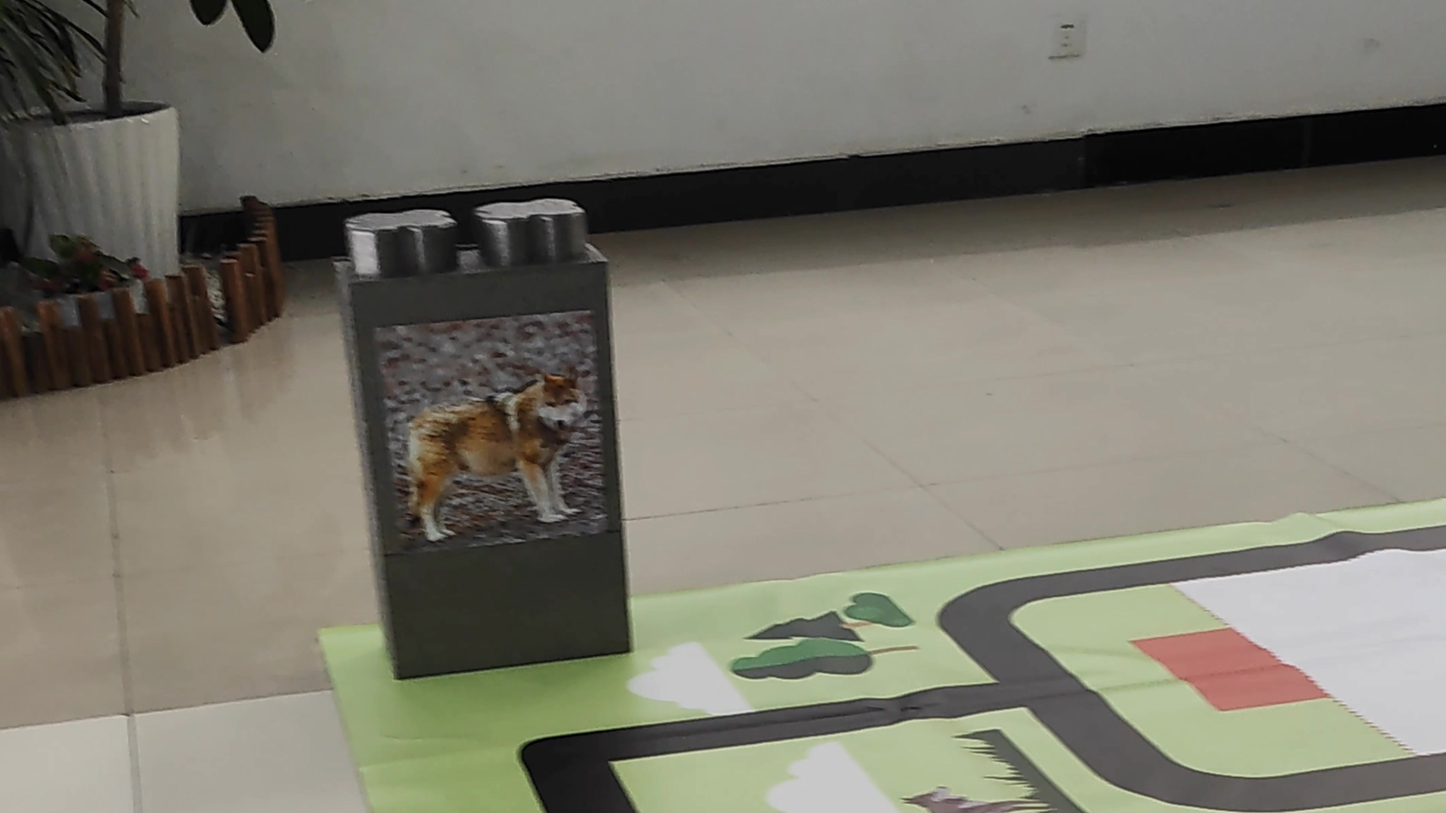wolf: (384, 330, 590, 526)
